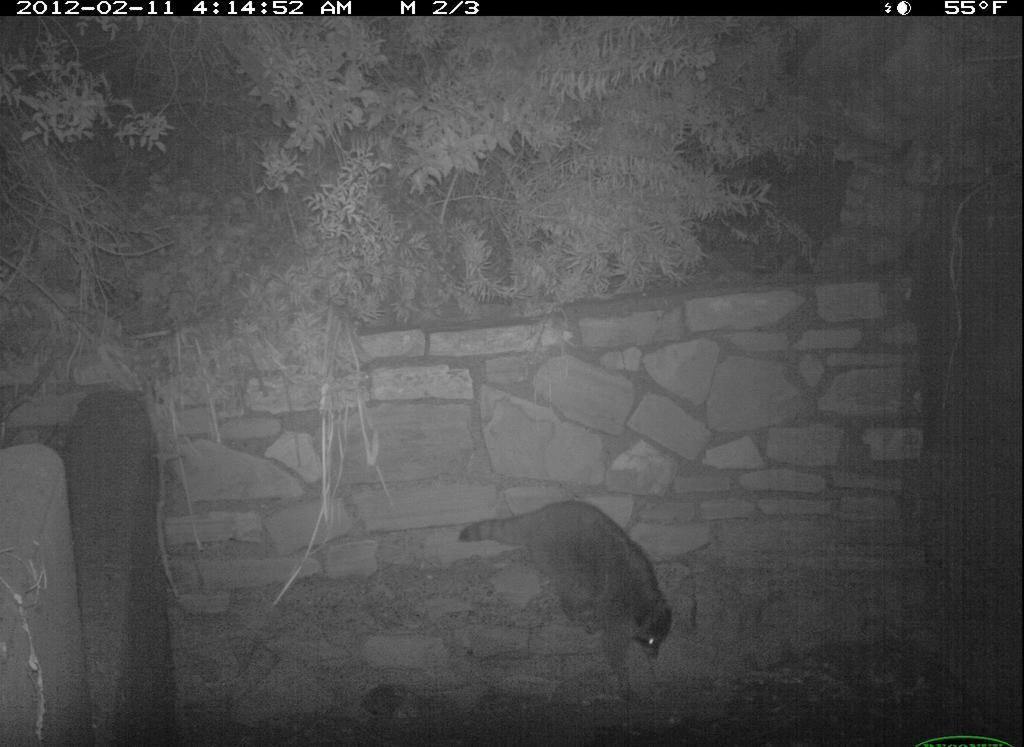raccoon: (454, 493, 678, 706)
